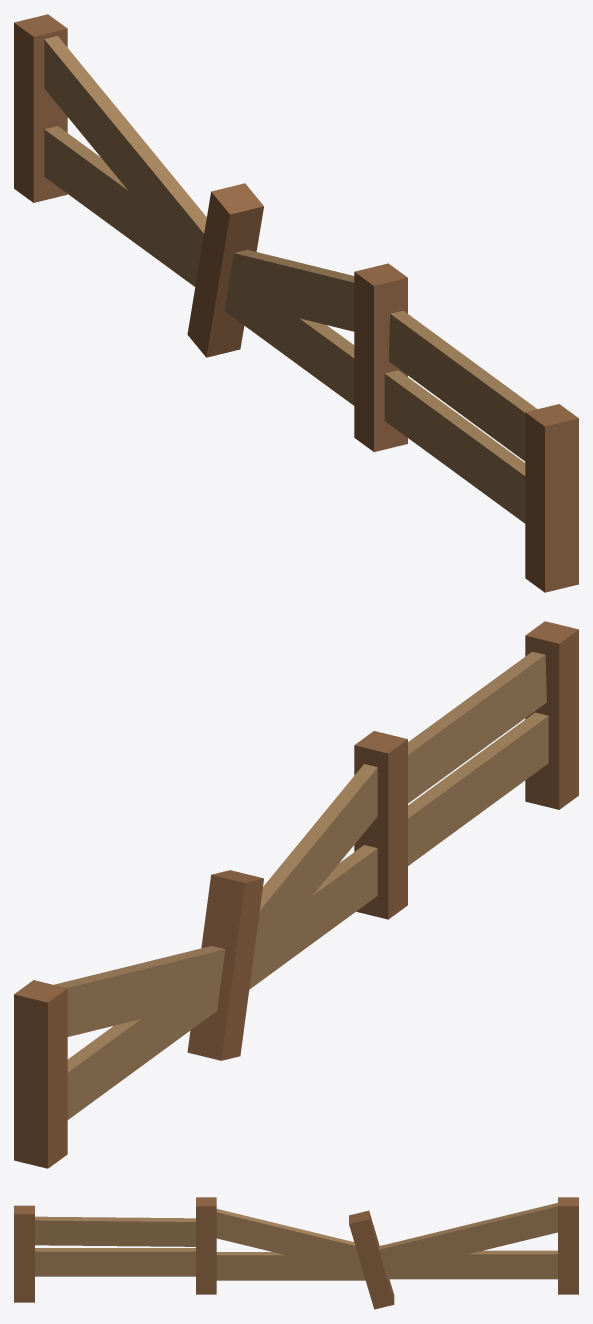
Rendered from desert fence 2.fbx.
3 renders of one model, top to bottom at view 1: azimuth 30°, elevation 25°; view 2: azimuth 150°, elevation 25°; view 3: azimuth 270°, elevation 25°, orthographic. The views are drawn at different scales.
Parts seen in each view (by area): view 1: polySurface91; view 2: polySurface91; view 3: polySurface91.
Part boxes in pixels (bbox=[...]): polySurface91: bbox=[14, 14, 578, 592]; polySurface91: bbox=[14, 621, 578, 1168]; polySurface91: bbox=[14, 1197, 578, 1309].
Size of the model in its own units: 0.75 by 4.1 by 20.28.
